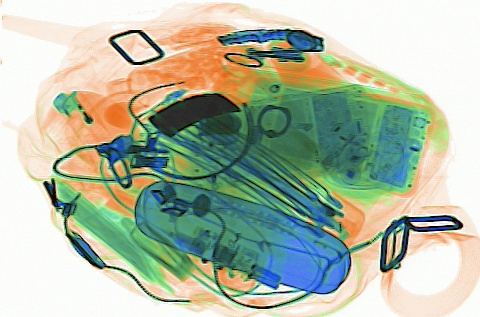lighter: (51, 83, 121, 166)
